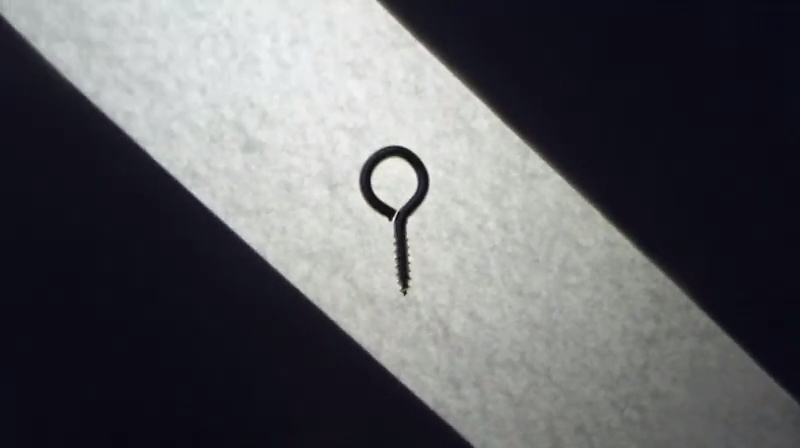O001: (355, 144, 430, 300)
